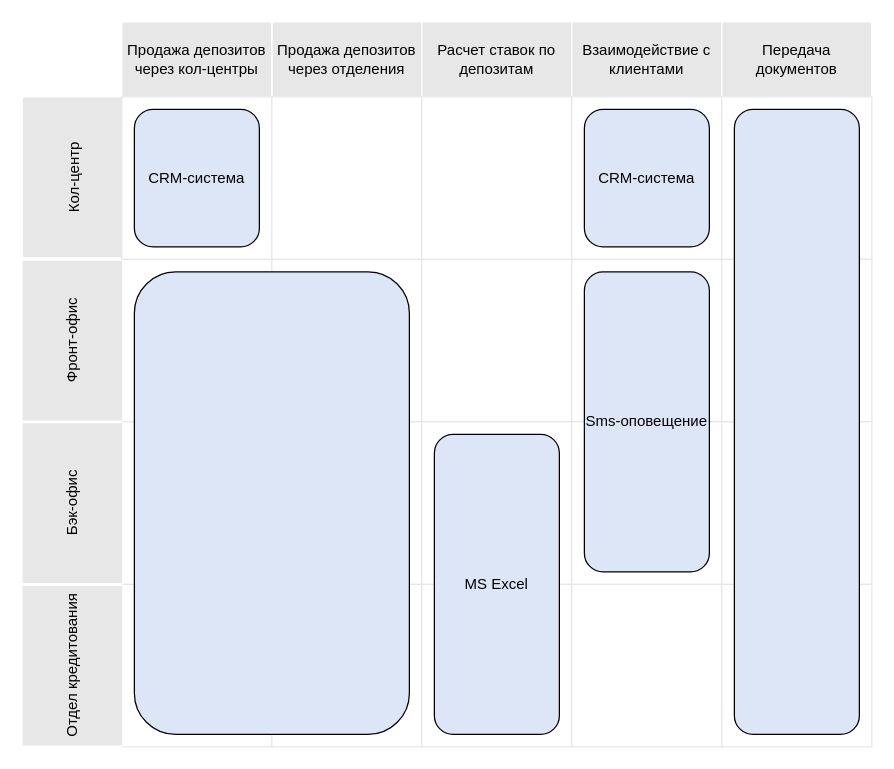
Image size: 894x769. Some labels were removed from this diagram. Each missing label, with the centre of its shape:
"E-mail" belongs at point (796, 421).
"АБС" belongs at point (271, 502).
